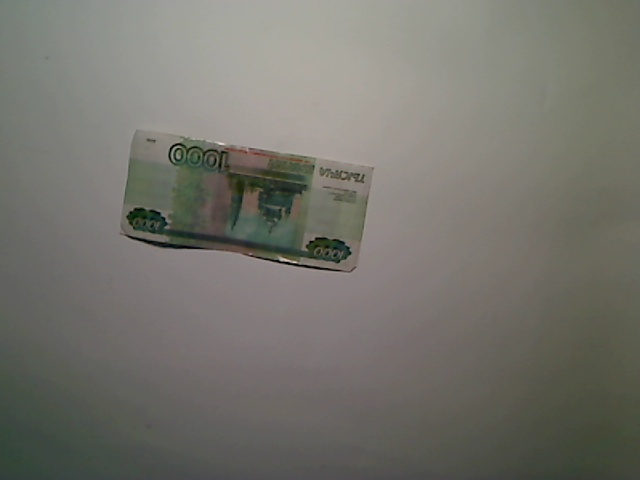banknotes: (117, 128, 374, 281)
